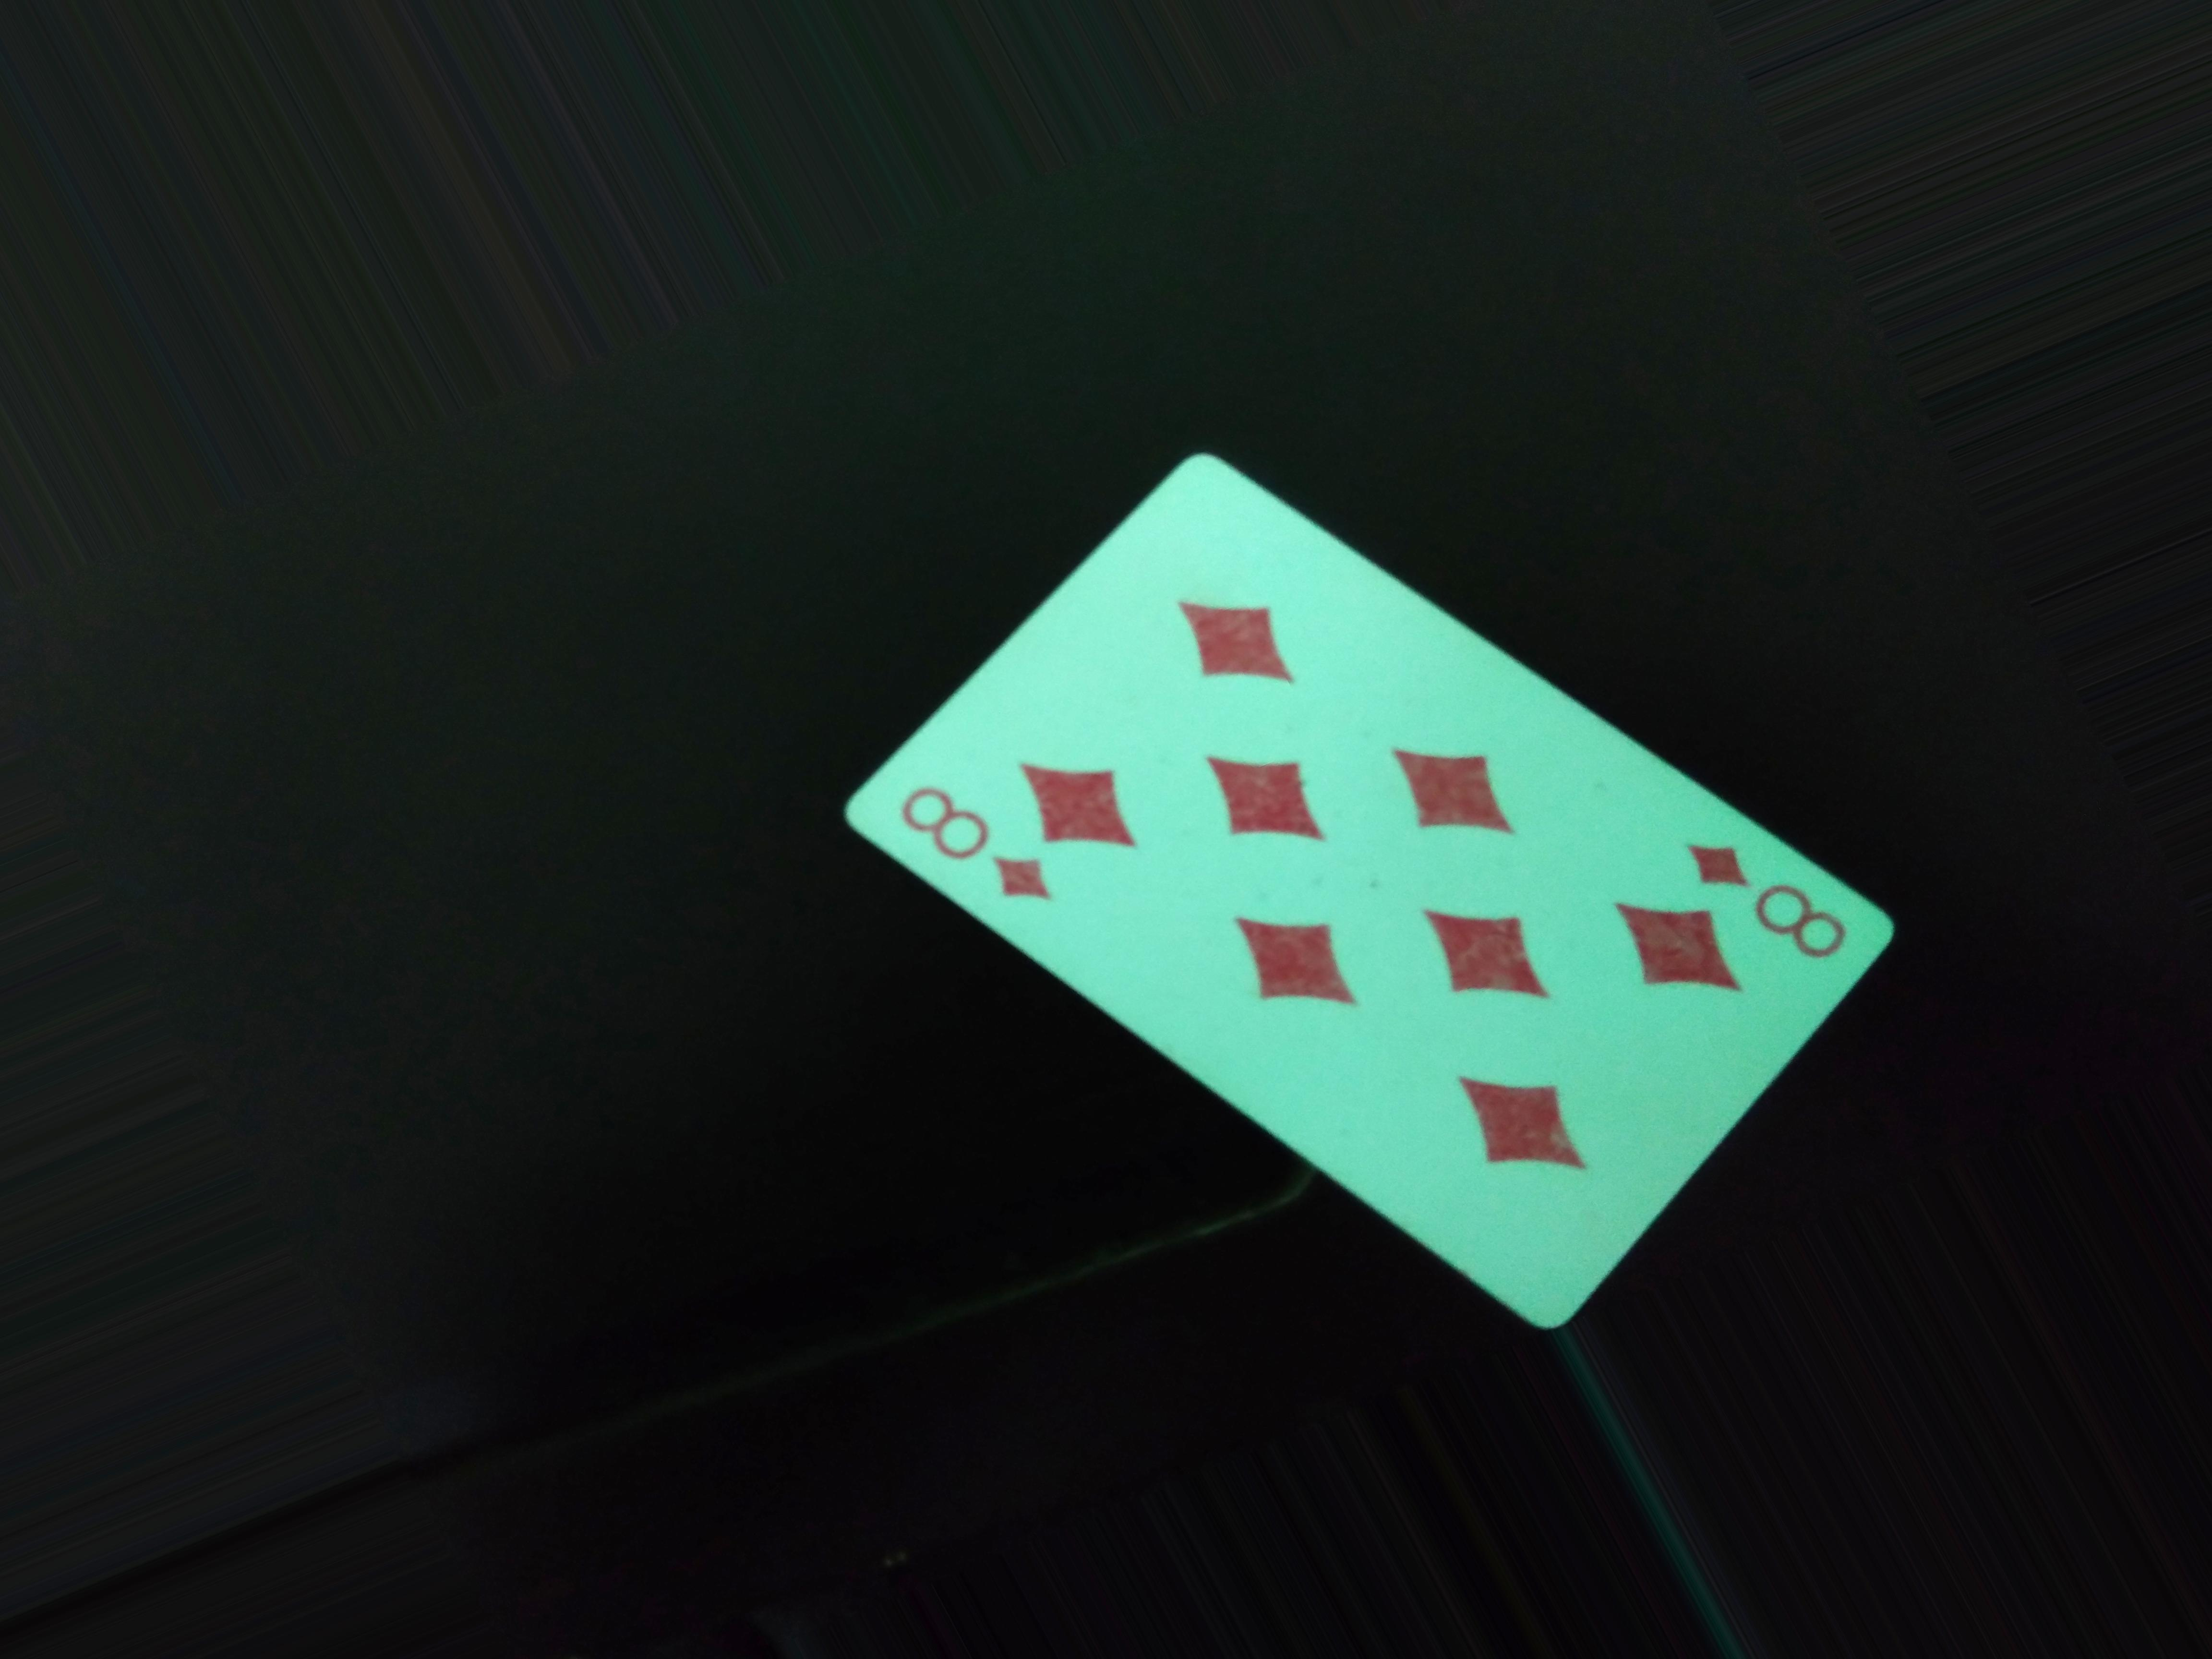8D: (883, 779, 1123, 932)
